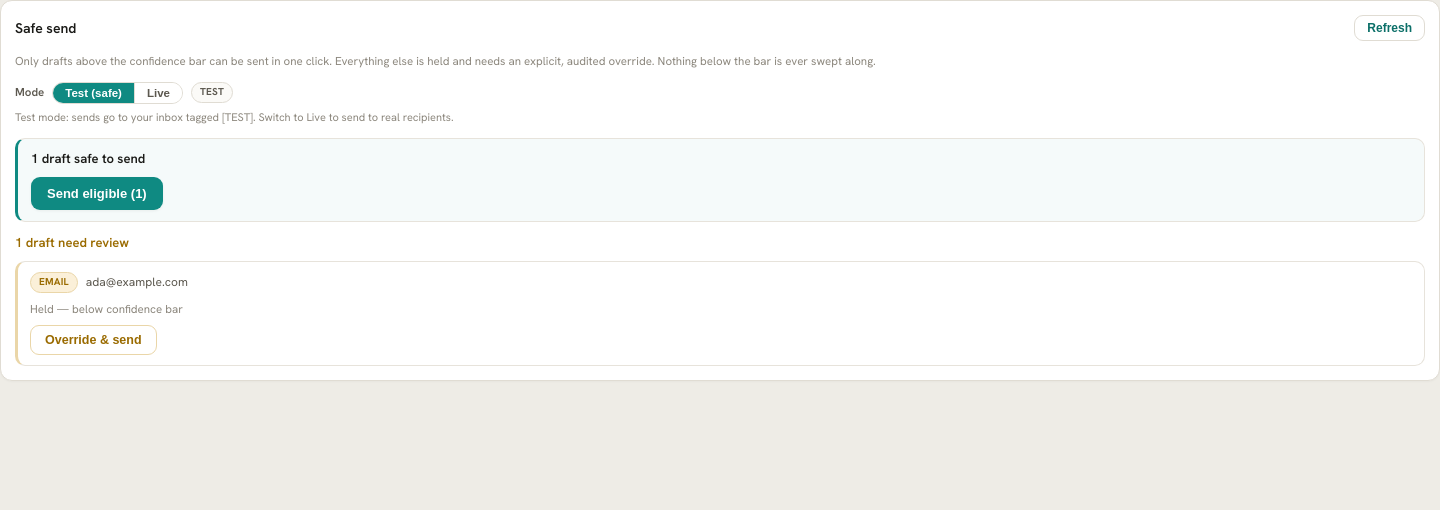
Test: CampaignSendControls › submitting an override routes overrideSend(action_id, reason) and notes the audit
Click the button with aria-label "open override and send".
click(93, 340)  # box left=30, top=326, right=157, bottom=356
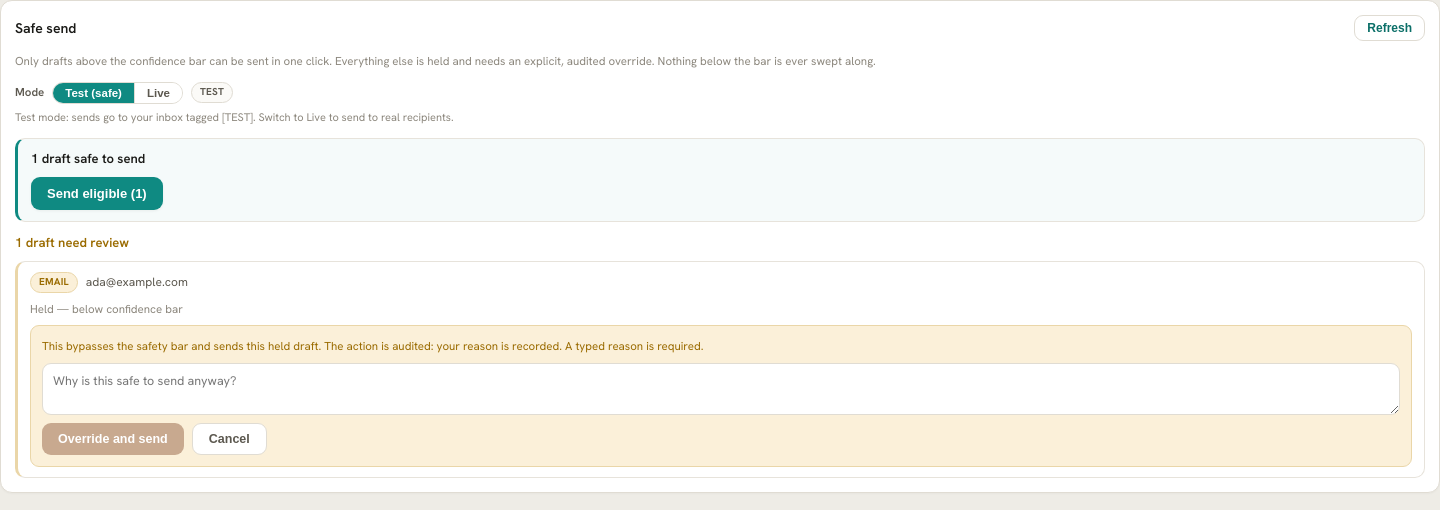
Type "manually verified" into the text box named "override reason".
click(721, 389); type("manually verified")  # box left=42, top=363, right=1400, bottom=415
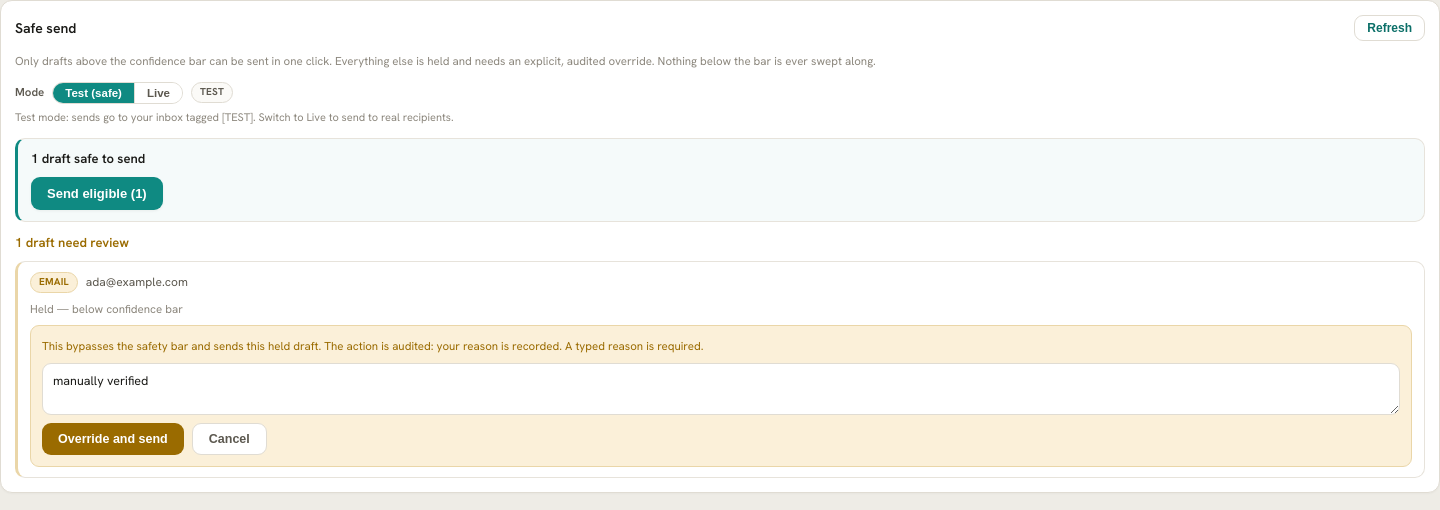
Click the button with aria-label "override and send draft".
click(113, 439)  # box left=42, top=423, right=184, bottom=455
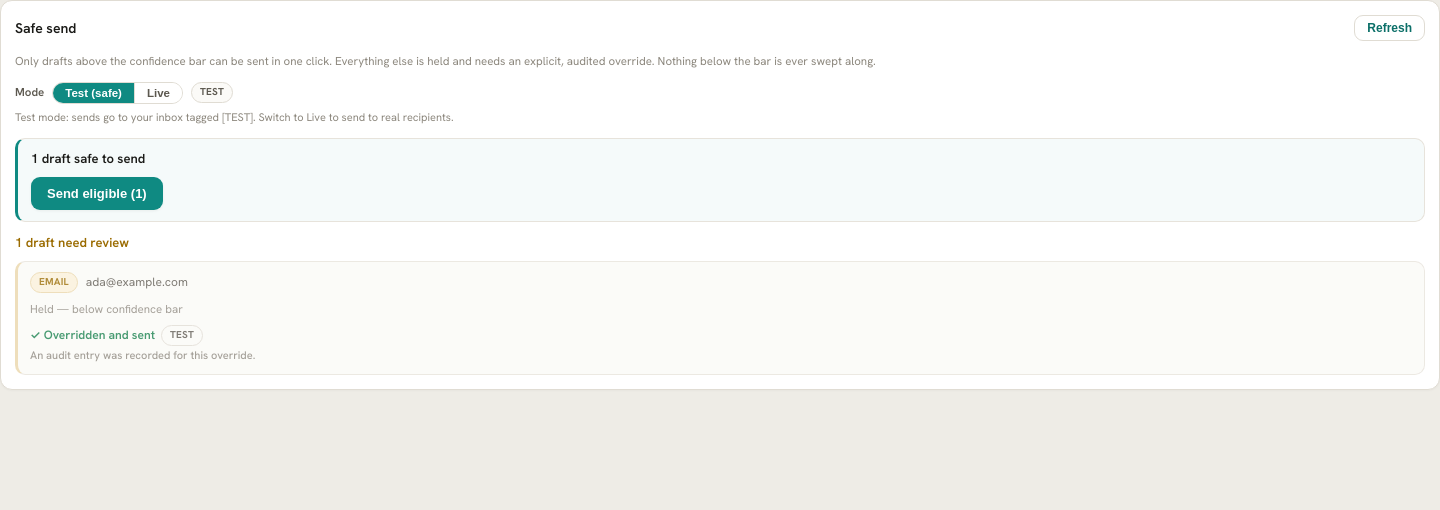
Now the text "An audit entry was recorded for this override." is shown, box left=30, top=348, right=255, bottom=362
